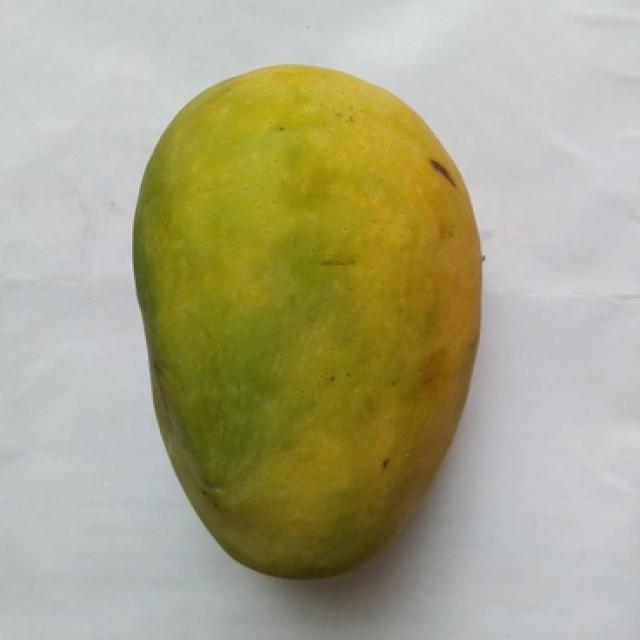Mango: (134, 66, 482, 576)
